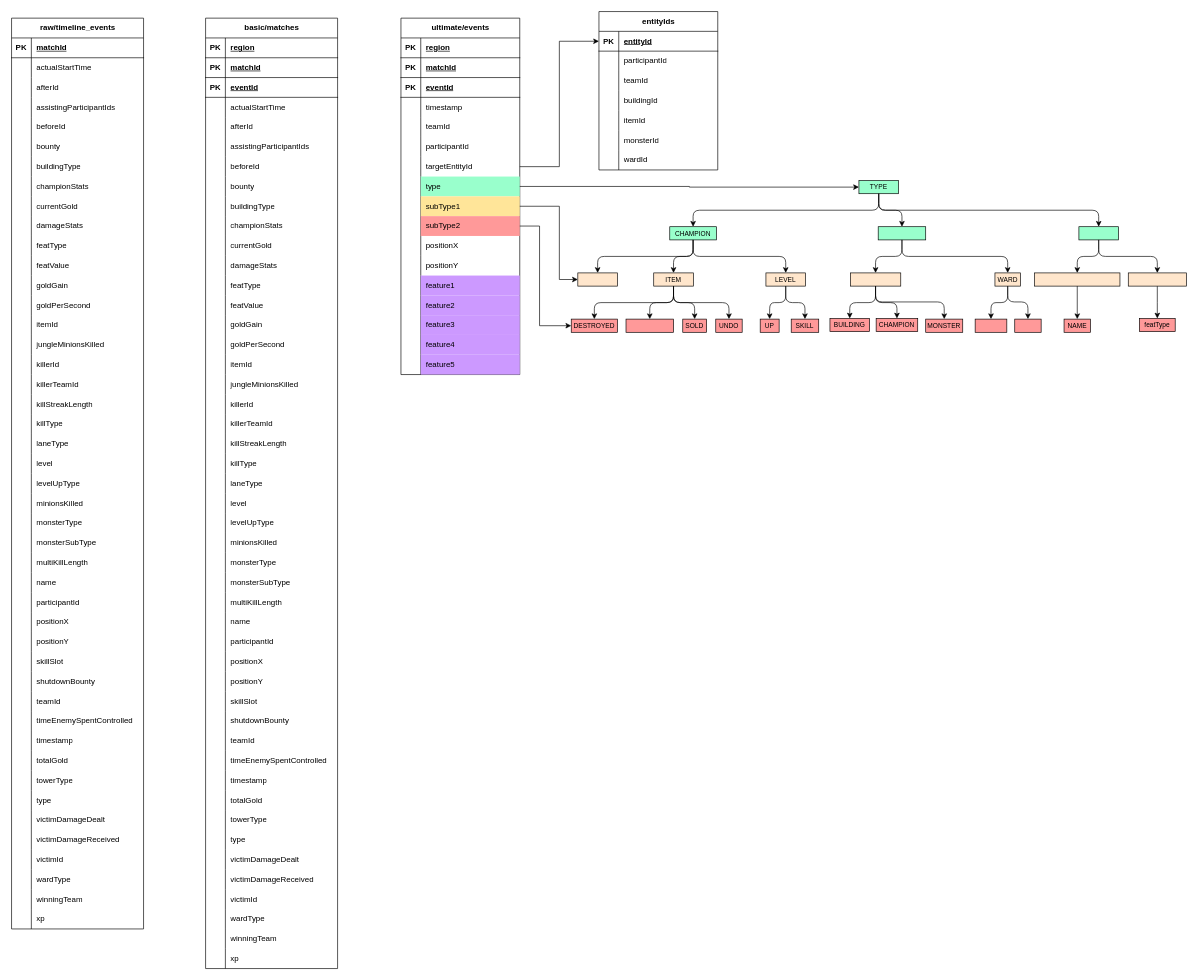
The diagram is 1198 pixels wide and 980 high, and some of its shapes have lost their labels. Each missing label, with the centre of its shape:
"DRAGON_SOUL_GIVEN" belongs at point 1077,279.
"FEAT_UPDATE" belongs at point 1157,279.
"FRAME" belongs at point 597,279.
"KILL/ASSIST" belongs at point 875,279.
"KILLED" belongs at point 1027,325.
"PLACED" belongs at point 990,325.
"PURCHASED" belongs at point 649,325.
"SYSTEM" belongs at point 1098,233.
"TAKEDOWN" belongs at point 902,233.
